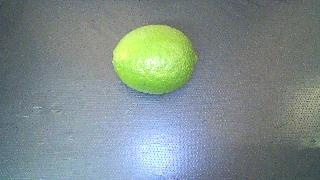EXPORTACION: (112, 25, 198, 94)
